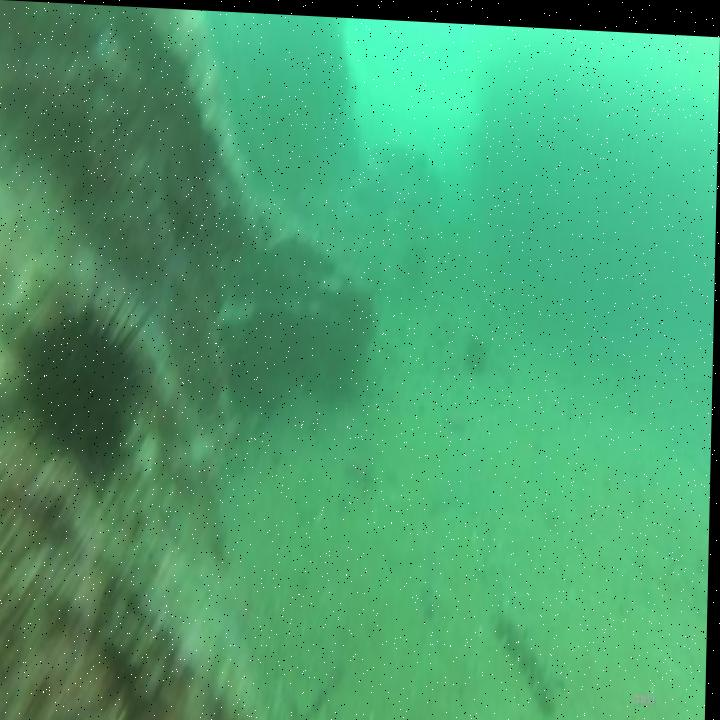echinus: (23, 294, 146, 477)
holothurian: (495, 591, 566, 719)
